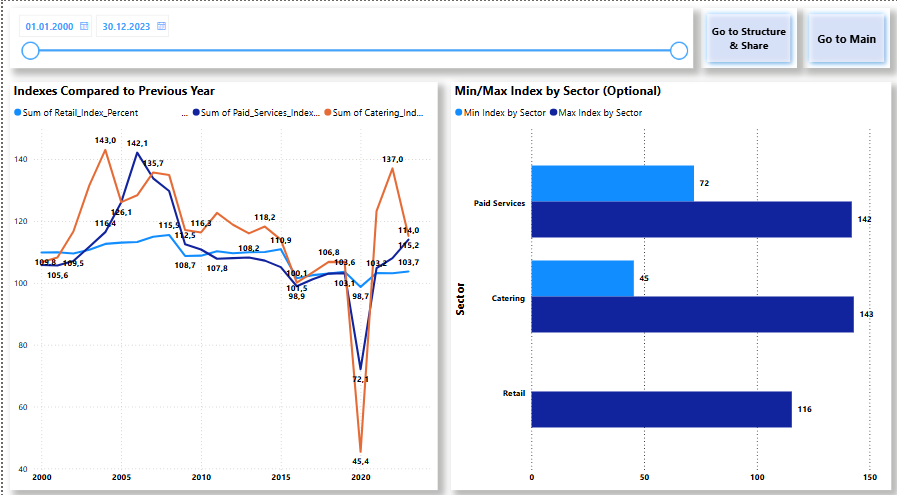

What the dashboard file says about the page in this screenshot:
{"tool":"powerbi","page":{"name":"Indexes","canvas":[1280,720],"ordinal":4},"visuals":[{"type":"lineChart","title":"Indexes Compared to Previous Year","fields":{"Category":["Calendar.Year"],"Y":["Sum(Retail_Services_Indexes.Retail_Index_Percent                                                                        ","Sum(Retail_Services_Indexes.Paid_Services_Index_Percent                          )","Sum(Retail_Services_Indexes.Catering_Index_Percent                                               )"]},"box":[10,115.7,611.4,582.9],"z":0},{"type":"clusteredBarChart","title":"Min/Max Index by Sector (Optional)","fields":{"Category":["Sectors.Sector"],"Y":["Sectors.Min Index by Sector","Sectors.Max Index by Sector"]},"box":[640,115.7,628.6,582.9],"z":1000},{"type":"slicer","fields":{"Values":["Calendar.Date"]},"box":[10.1,10.1,976.3,86.4],"z":2000},{"type":"actionButton","title":"Go to Main","box":[1143.4,10.1,125.3,86.4],"z":3000},{"type":"actionButton","box":[996.5,10.1,136.8,86.4],"z":4000}]}

Visuals, with their boxes in screenshot pixels (x1, y1, x2, y2), scaled from the page's 1280x720 canvas onto the 897x495 screenshot:
"Indexes Compared to Previous Year" lineChart: <box>7,80,435,480</box>
"Min/Max Index by Sector (Optional)" clusteredBarChart: <box>448,80,889,480</box>
slicer - Calendar.Date: <box>7,7,691,66</box>
"Go to Main" actionButton: <box>801,7,889,66</box>
actionButton: <box>698,7,794,66</box>
